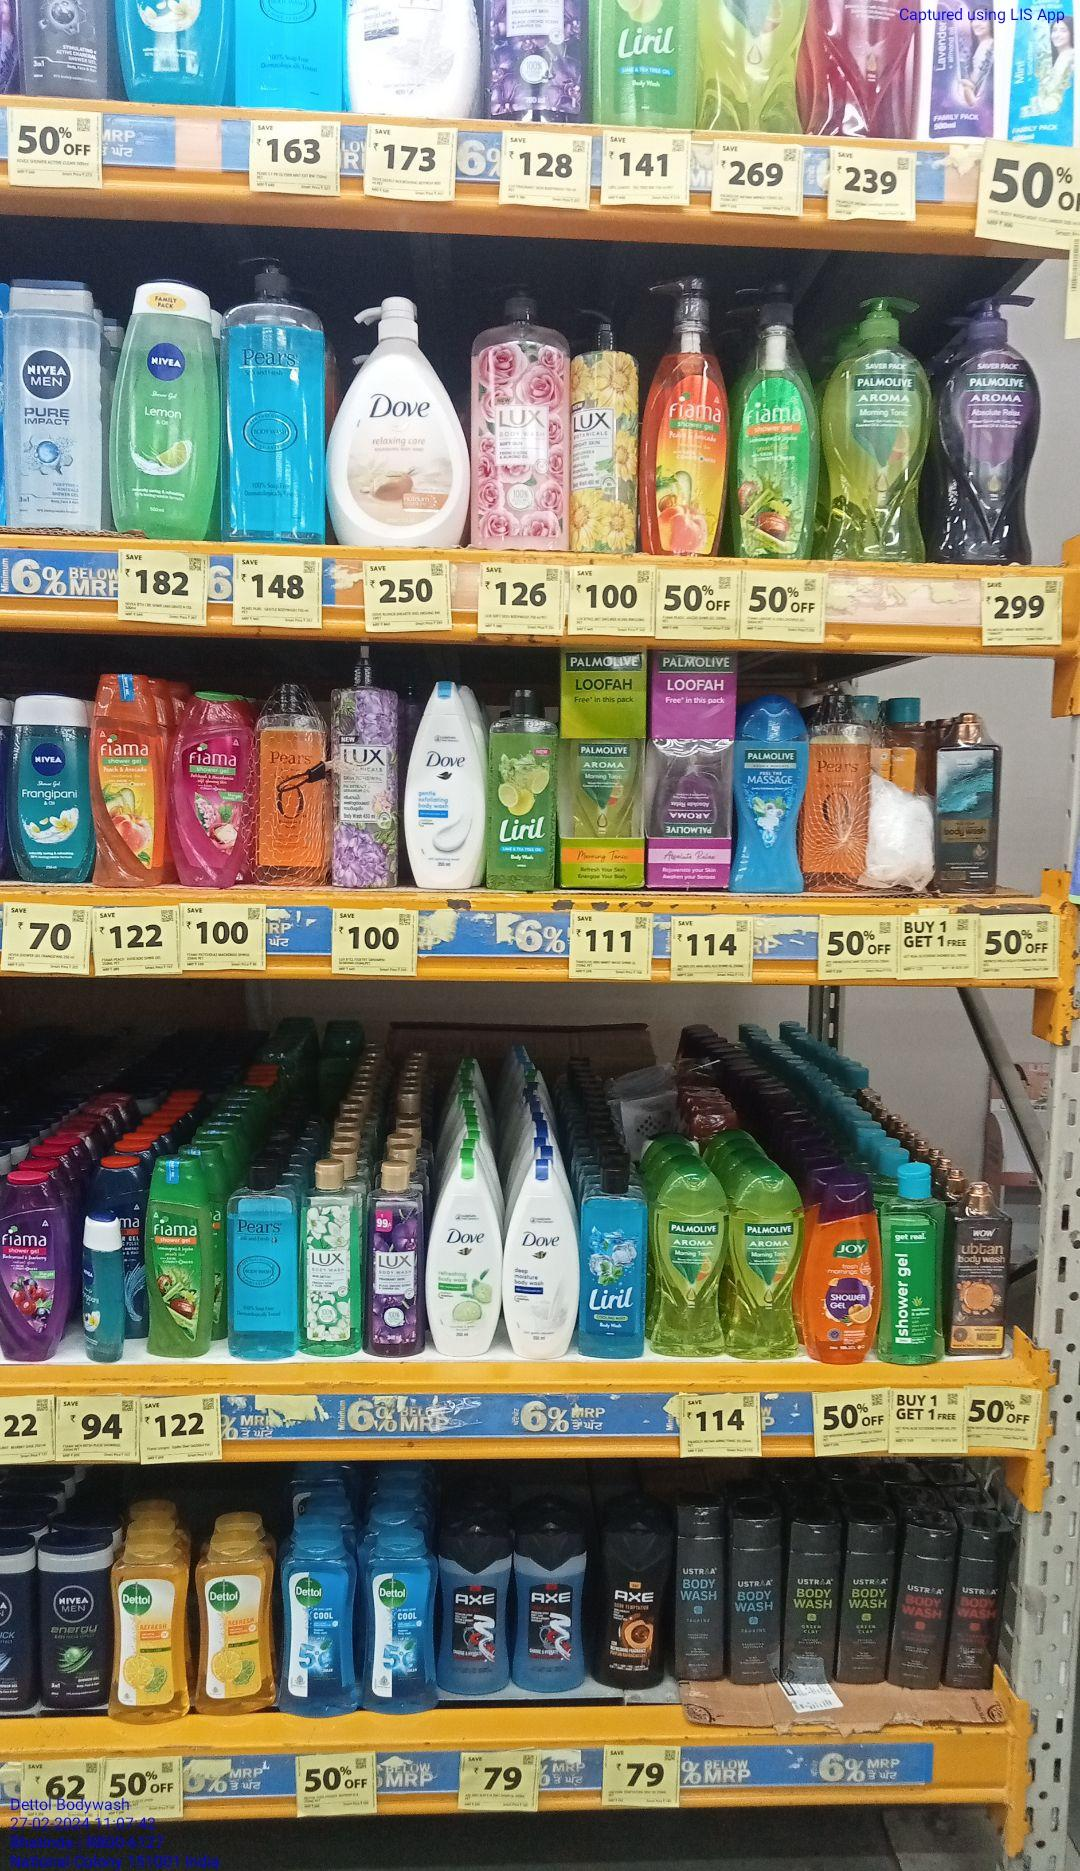Dettol_Bodywash_Cool: (283, 1533, 359, 1719), (368, 1533, 435, 1716)
Dettol_Bodywash_Refresh: (111, 1542, 188, 1727), (197, 1538, 276, 1716)
Dove_Deep_Moisture_Body_Wash_250ML: (504, 1158, 576, 1361)
Dove_Gentle_Exfoliating_Body_Wash_250ML: (405, 681, 483, 894)
Dove_Refreshing_Body_Wash_250ML: (428, 1157, 500, 1366)
Fiama_Shower_Gel_Lemongrass_and_Jojoba_250ML: (145, 1157, 213, 1358)
Fiama_Shower_Gel_Patchouli_and_Macadamia_250ML: (174, 694, 255, 892)
Fiama_Shower_Gel_Peach_and_Avocado_250ML: (91, 668, 166, 889)
Joy_Shower_Gel_Mandarin_and_Lemongrass_250ML: (807, 1177, 878, 1366)
Liril_Cooling_Mint_Body_Wash_250ML: (581, 1164, 648, 1360)
Liril_Lime_and_Tea_Tree_Oil_Body_Wash_250ML: (491, 684, 558, 901)
Lux_Black_Orchid_Scent_and_Juniper_Oil_Body_Wash_245ML: (368, 1166, 424, 1361)
Lux_Body_Wash_Skin_Detox_Freesia_Scent_and_Alove_Vera_245ML: (305, 1164, 361, 1361)
Nivea_Shower_Gel_Frangipani_and_Oil_250ML: (9, 686, 87, 883)
Nivea_Shower_Gel_Lemon_and_Oil_250ML: (118, 275, 219, 537)
Palmolive_Aroma_Moments_Feel_The_Massage_Shower_Gel_250ML: (734, 693, 816, 901)
Palmolive_Aroma_Morning_Tonic_Shower_Gel_250ML: (733, 1171, 798, 1362), (657, 1169, 723, 1358)
Pears_Pure_Glycerin_and_Mint_Extracts_Body_Wash_250ML: (230, 1166, 296, 1365)
